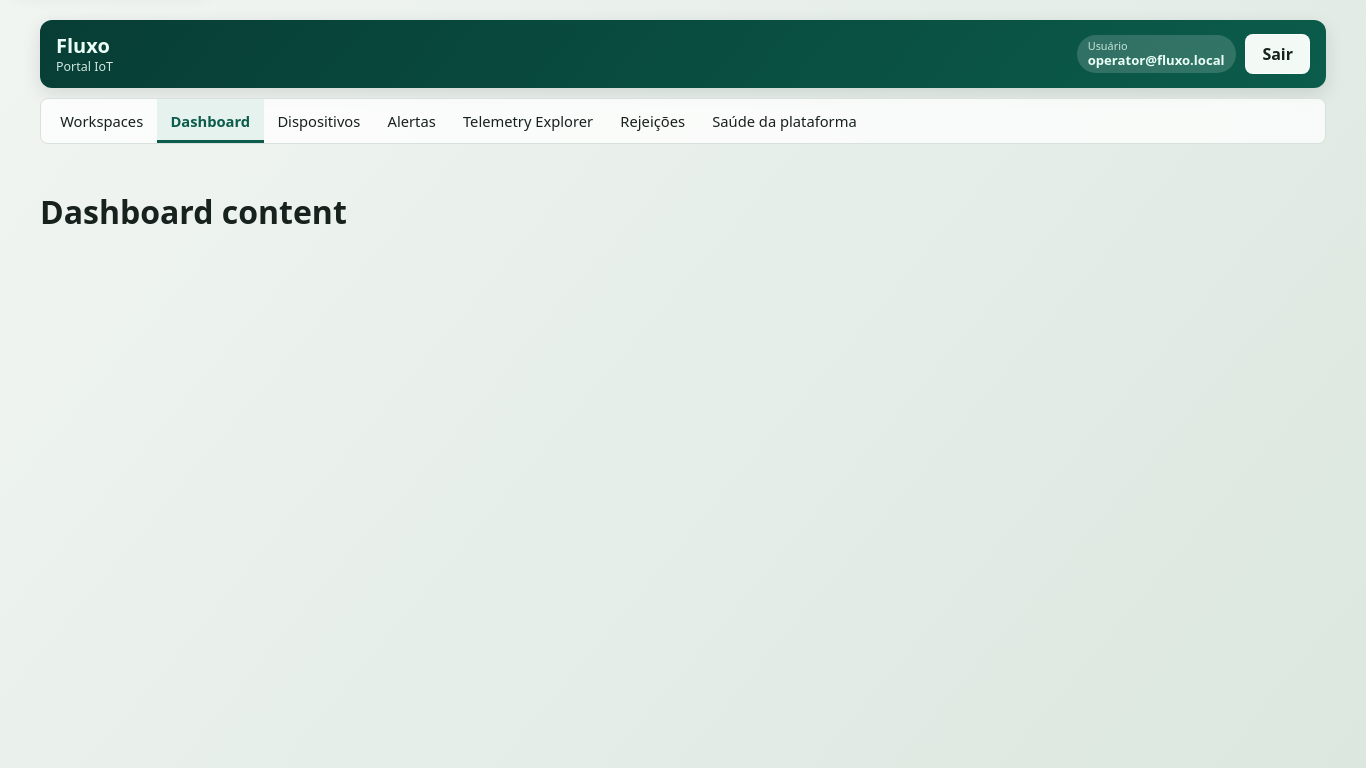
AppShell › mantém a navegação completa e indica a rota atual
The width and height of the screenshot is (1366, 768).
Expected: the text "operator@fluxo.local" is shown, [1088, 53, 1225, 68]
Expected: the navigation bar named "Navegação principal" is shown, [40, 98, 1326, 144]
Click the link "Telemetry Explorer": (528, 121) [463, 111, 593, 131]
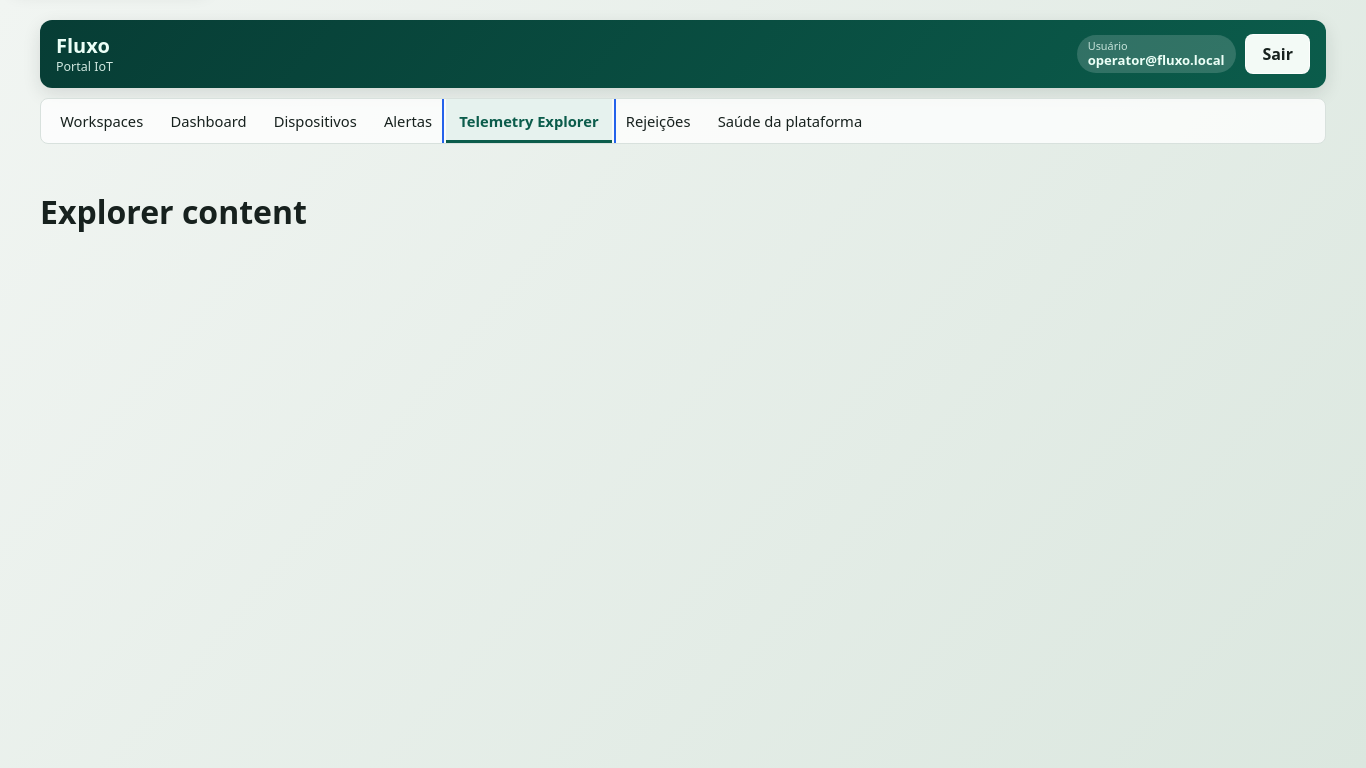
Expected: the heading "Explorer content" is shown, [40, 190, 307, 233]
Click the link "Saúde da plataforma": (790, 121) [718, 111, 862, 131]
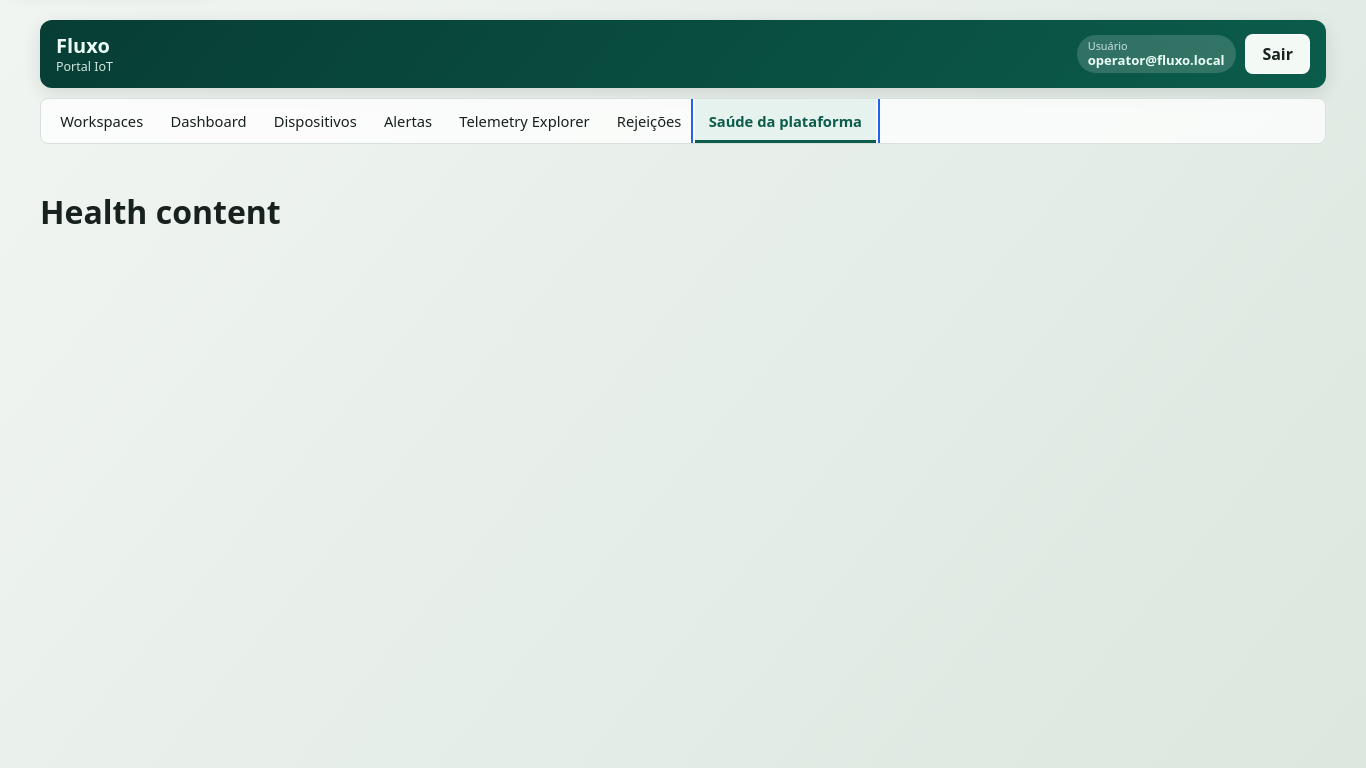
Expected: the heading "Health content" is shown, [40, 190, 281, 233]
